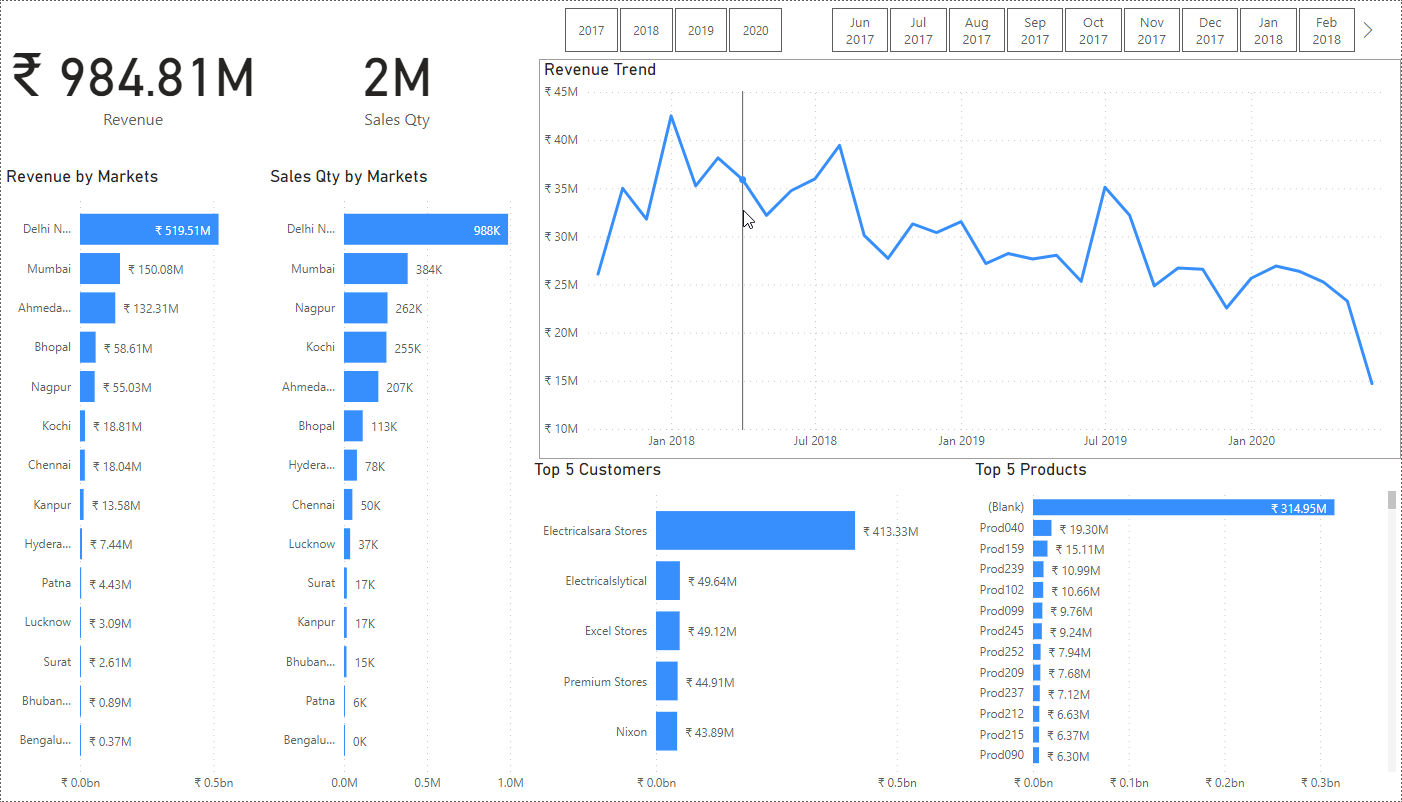

This screenshot's page, from the dashboard's own definition file:
{"tool":"powerbi","page":{"name":"Key Insights","canvas":[1400,800],"ordinal":0},"visuals":[{"type":"card","fields":{"Values":["BaseMeasures.Revenue"]},"box":[0,0,264.5,158.3],"z":0},{"type":"card","fields":{"Values":["BaseMeasures.Sales Qty"]},"box":[264,0,264,158],"z":1000},{"type":"barChart","title":"Revenue by Markets","fields":{"Y":["BaseMeasures.Revenue"],"Category":["sales markets.markets_name"]},"box":[0,165,264,635],"z":2000},{"type":"barChart","title":"Sales Qty by Markets","fields":{"Category":["sales markets.markets_name"],"Y":["BaseMeasures.Sales Qty"]},"box":[264,165,264,635],"z":3000},{"type":"slicer","fields":{"Values":["sales date.year"]},"box":[538,0,267,58],"z":4000},{"type":"slicer","fields":{"Values":["sales date.cy_date"]},"box":[805,0,573,58],"z":5000},{"type":"barChart","title":"Top 5 Customers","fields":{"Category":["sales customers.custmer_name"],"Y":["BaseMeasures.Revenue"]},"box":[528,458,441,342],"z":6000},{"type":"barChart","title":"Top 5 Products","fields":{"Y":["BaseMeasures.Revenue"],"Category":["sales products.product_code"]},"box":[969,458,431,342],"z":7000},{"type":"lineChart","title":"Revenue Trend","fields":{"Y":["BaseMeasures.Revenue"],"Category":["sales date.cy_date.Variation.Date Hierarchy.Year","sales date.cy_date.Variation.Date Hierarchy.Quarter","sales date.cy_date.Variation.Date Hierarchy.Month","sales date.cy_date.Variation.Date Hierarchy.Day"]},"box":[538,58,862,400],"z":8000}]}

Visuals, with their boxes in screenshot pixels (x1, y1, x2, y2), scaled from the page's 1400x800 canvas onto the 1402x802 screenshot:
card - BaseMeasures.Revenue: bbox(0, 0, 265, 159)
card - BaseMeasures.Sales Qty: bbox(264, 0, 529, 158)
"Revenue by Markets" barChart: bbox(0, 165, 264, 801)
"Sales Qty by Markets" barChart: bbox(264, 165, 529, 801)
slicer - sales date.year: bbox(539, 0, 806, 58)
slicer - sales date.cy_date: bbox(806, 0, 1380, 58)
"Top 5 Customers" barChart: bbox(529, 459, 970, 801)
"Top 5 Products" barChart: bbox(970, 459, 1401, 801)
"Revenue Trend" lineChart: bbox(539, 58, 1401, 459)
